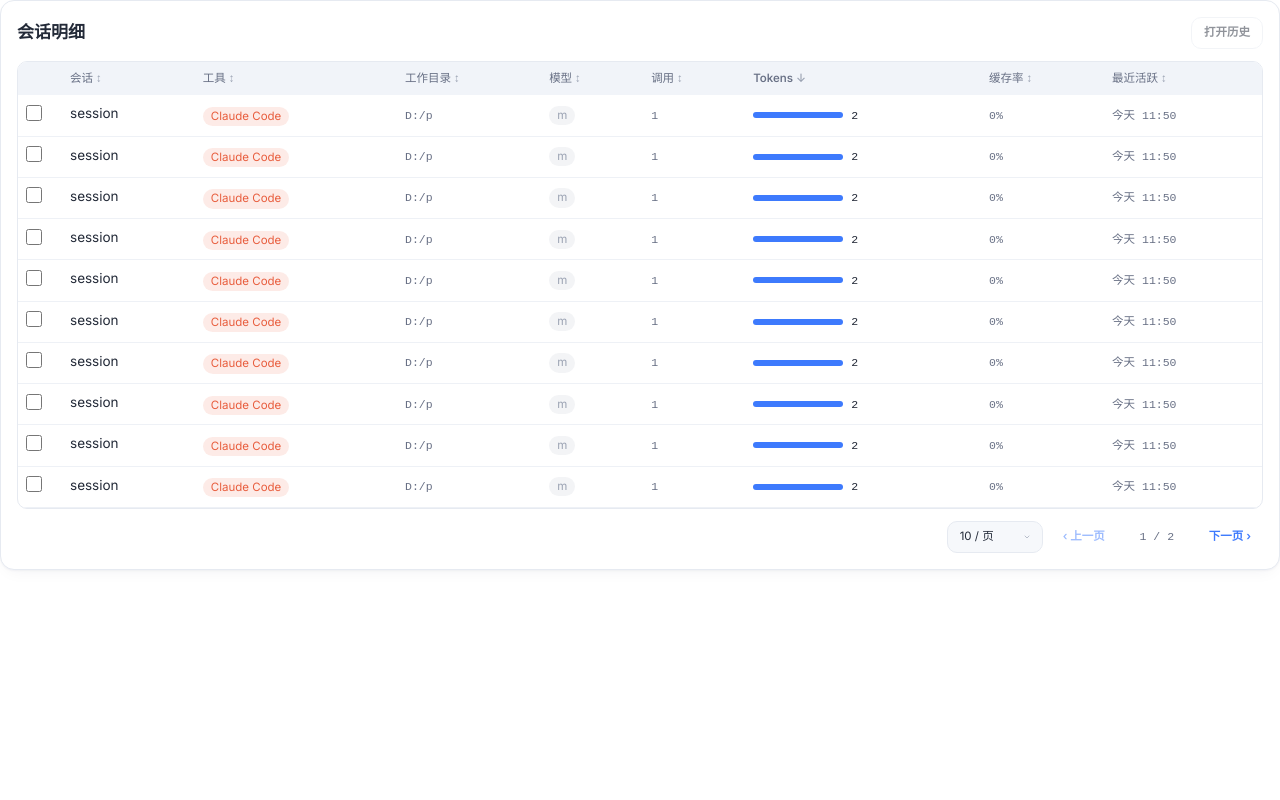
Test: SessionTable session-history open › clears checked state when sorting resets the page
Click the 1st checkbox named "选择 session".
click(34, 113)  # box [26,105,42,121]
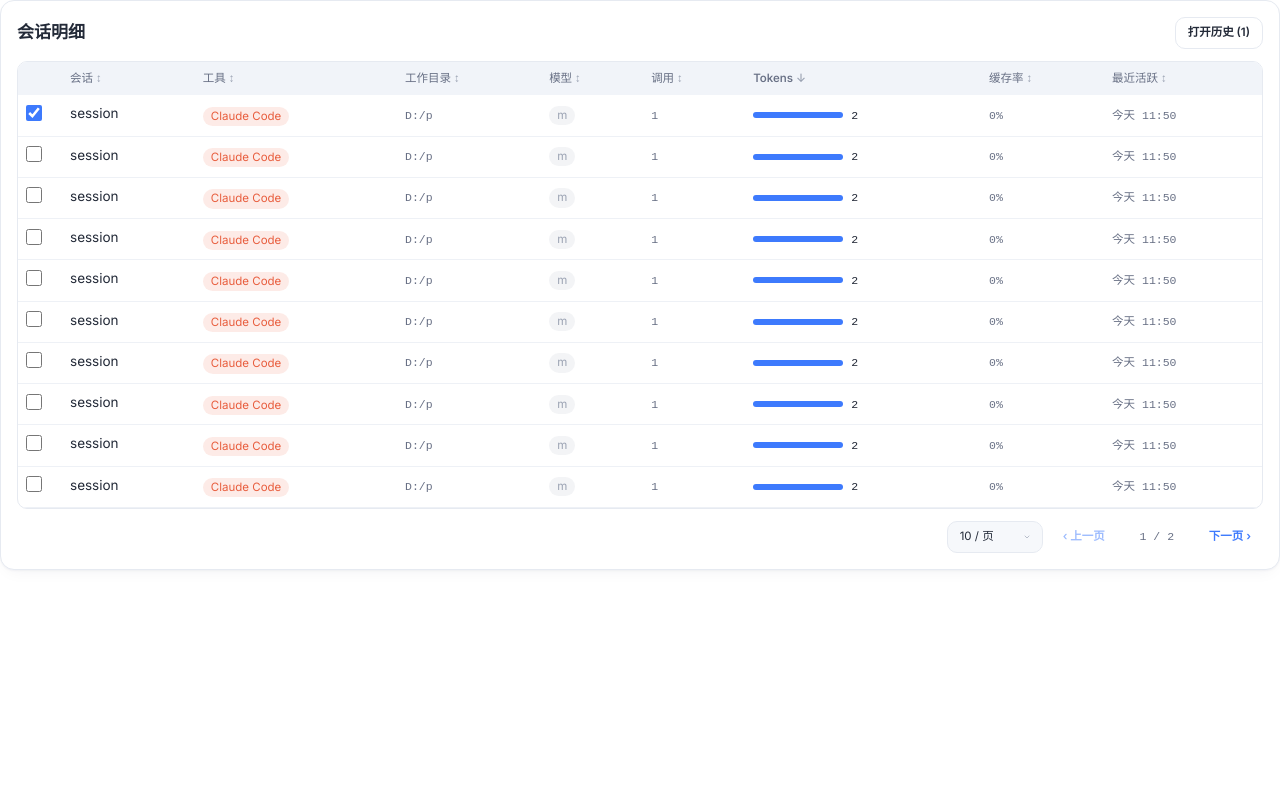
Expected: the button "打开历史 (1)" is enabled, [1175,17,1263,49]
Click the column heading "最近活跃 ↕".
click(1135, 78)  # box [1100,62,1262,95]
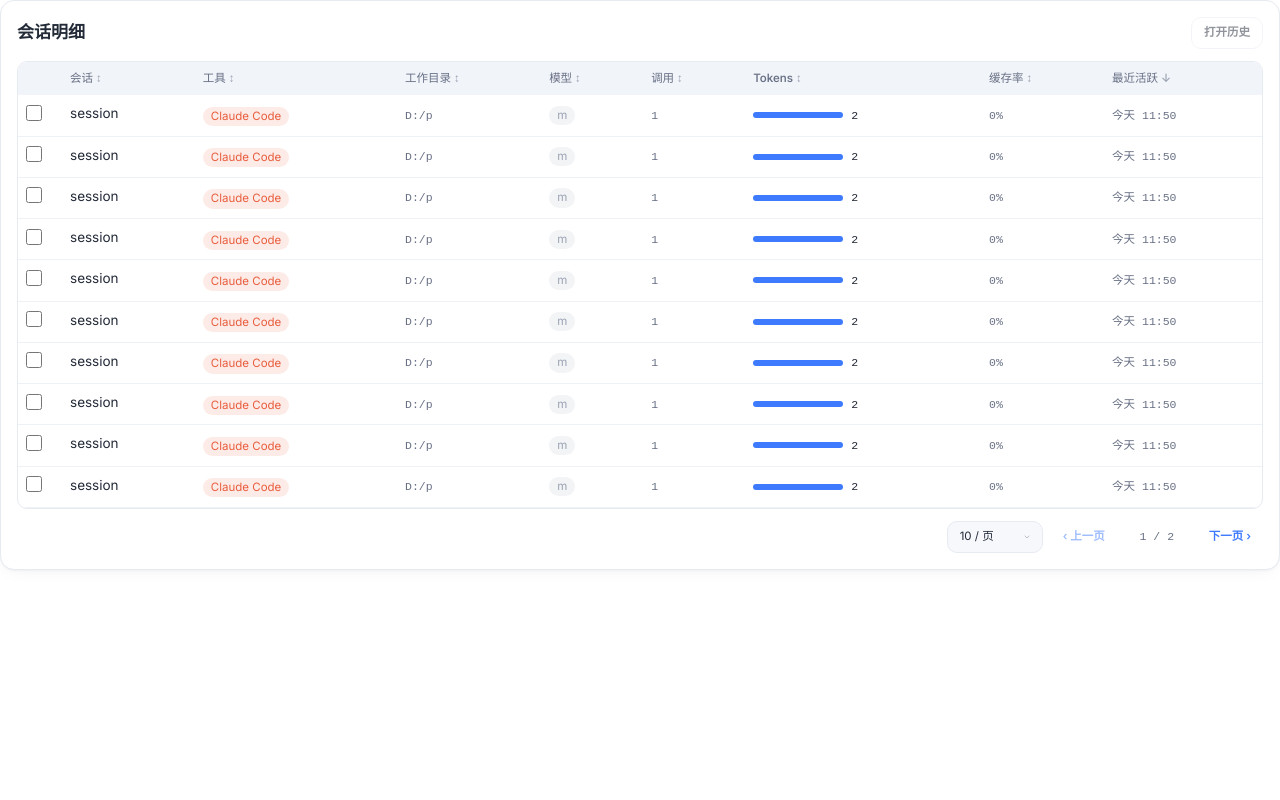
Expected: the button "打开历史" is disabled, [1191,17,1263,49]
